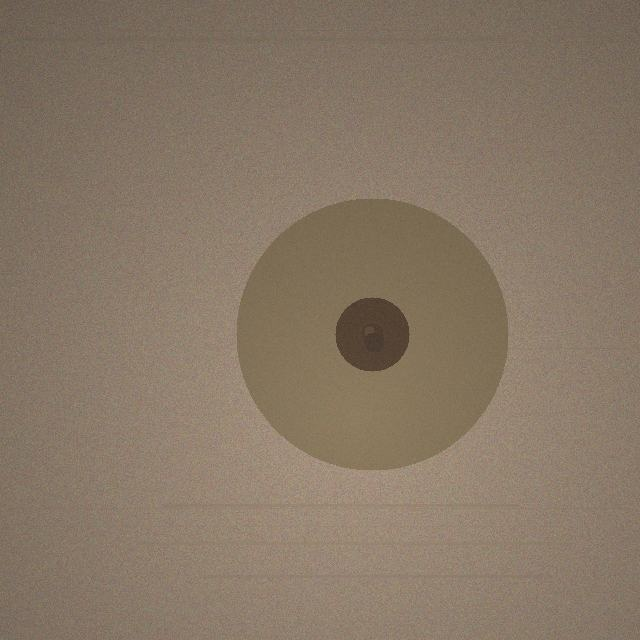cold_weld: (236, 198, 508, 470)
